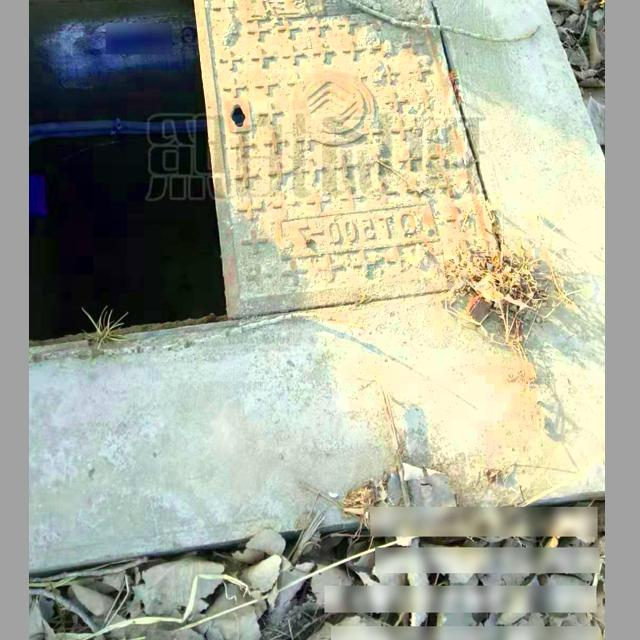lose: (34, 0, 519, 496)
